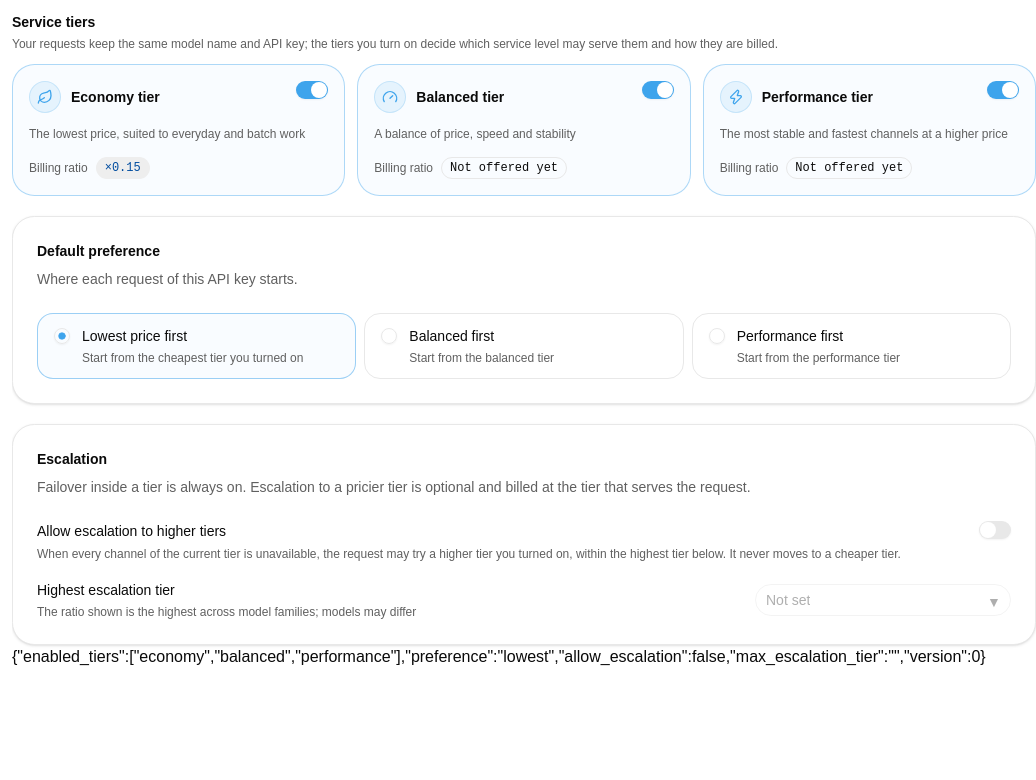
service tier settings editor › reports a safe draft when a tier is switched off
Click the switch named "Economy tier" next to "Economy tier" at (312, 90), box [296,81,328,99]
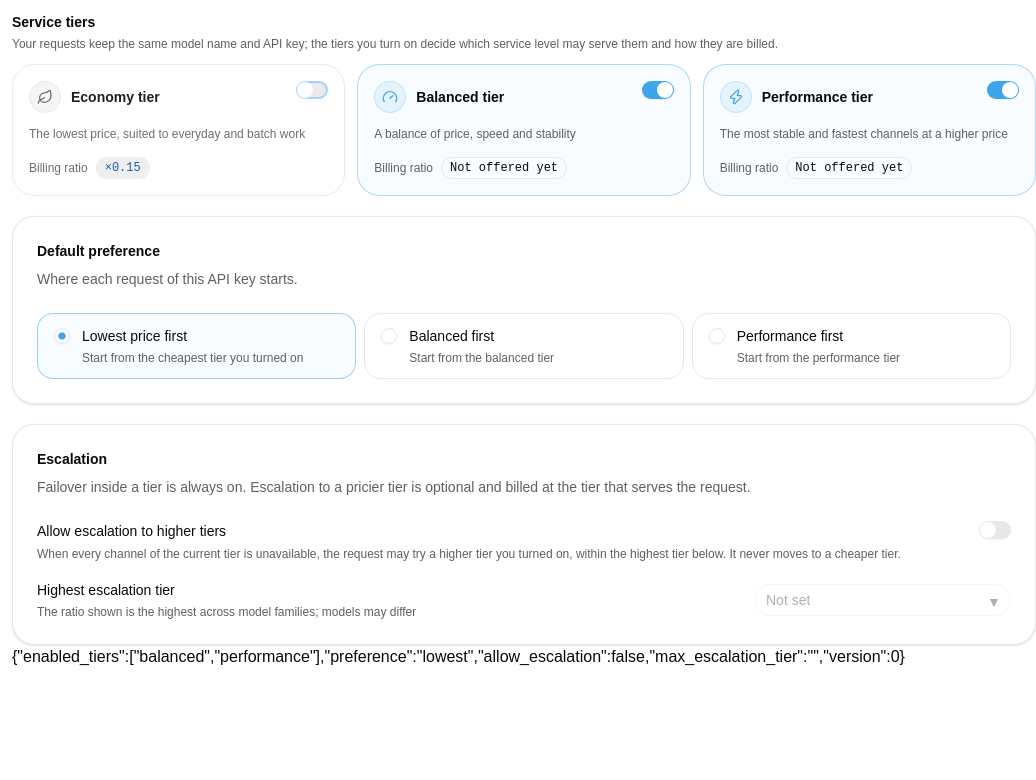
Expected: the text named "Settings" shows "\"enabled_tiers\":[\"balanced\",\"performance\"]", [12,648,905,665]
